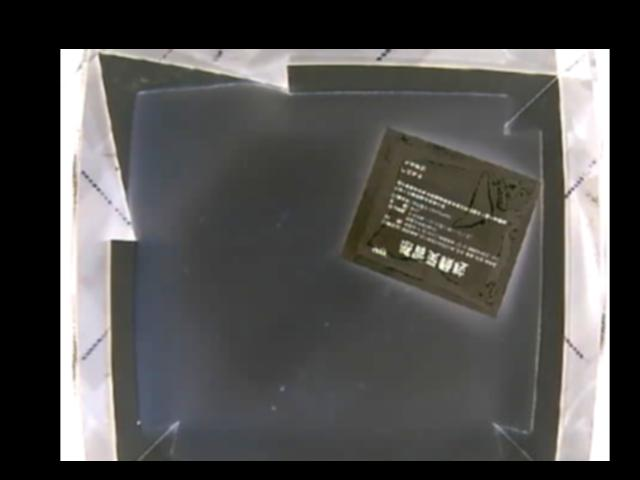Medicine: (341, 127, 539, 318)
